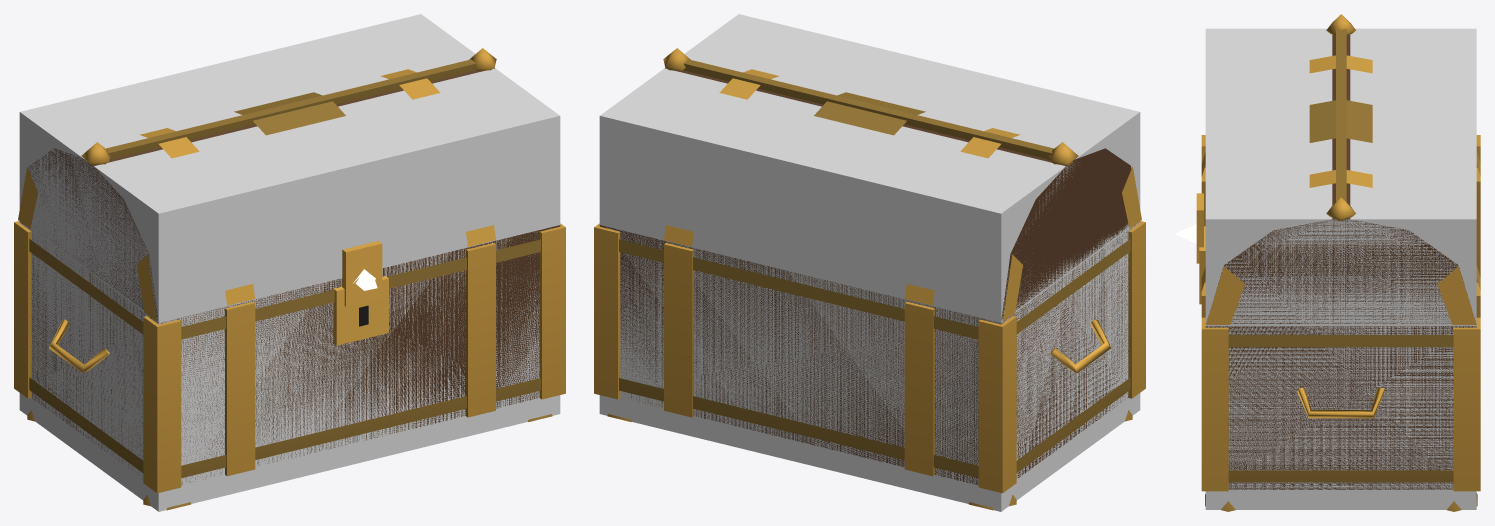
The model's file is chest_ornate.glb.
3 renders of one model, left to right at view 1: azimuth 30°, elevation 25°; view 2: azimuth 150°, elevation 25°; view 3: azimuth 270°, elevation 25°, orthographic. The views are drawn at different scales.
Visible parts, largest first — view 1: COL_chest, chest_ornate, ROT_lid; view 2: COL_chest, chest_ornate, ROT_lid; view 3: COL_chest, chest_ornate, ROT_lid.
Boxes of the visible parts, x1,y1,x2,y2 form: COL_chest: (19, 14, 560, 511); chest_ornate: (14, 221, 565, 510); ROT_lid: (18, 48, 496, 321); COL_chest: (599, 14, 1140, 511); chest_ornate: (594, 221, 1145, 510); ROT_lid: (663, 48, 1141, 321); COL_chest: (1205, 28, 1476, 509); chest_ornate: (1199, 135, 1480, 511); ROT_lid: (1174, 14, 1480, 324).
Size of the model in its own units: 1.12 by 0.755 by 0.679.
